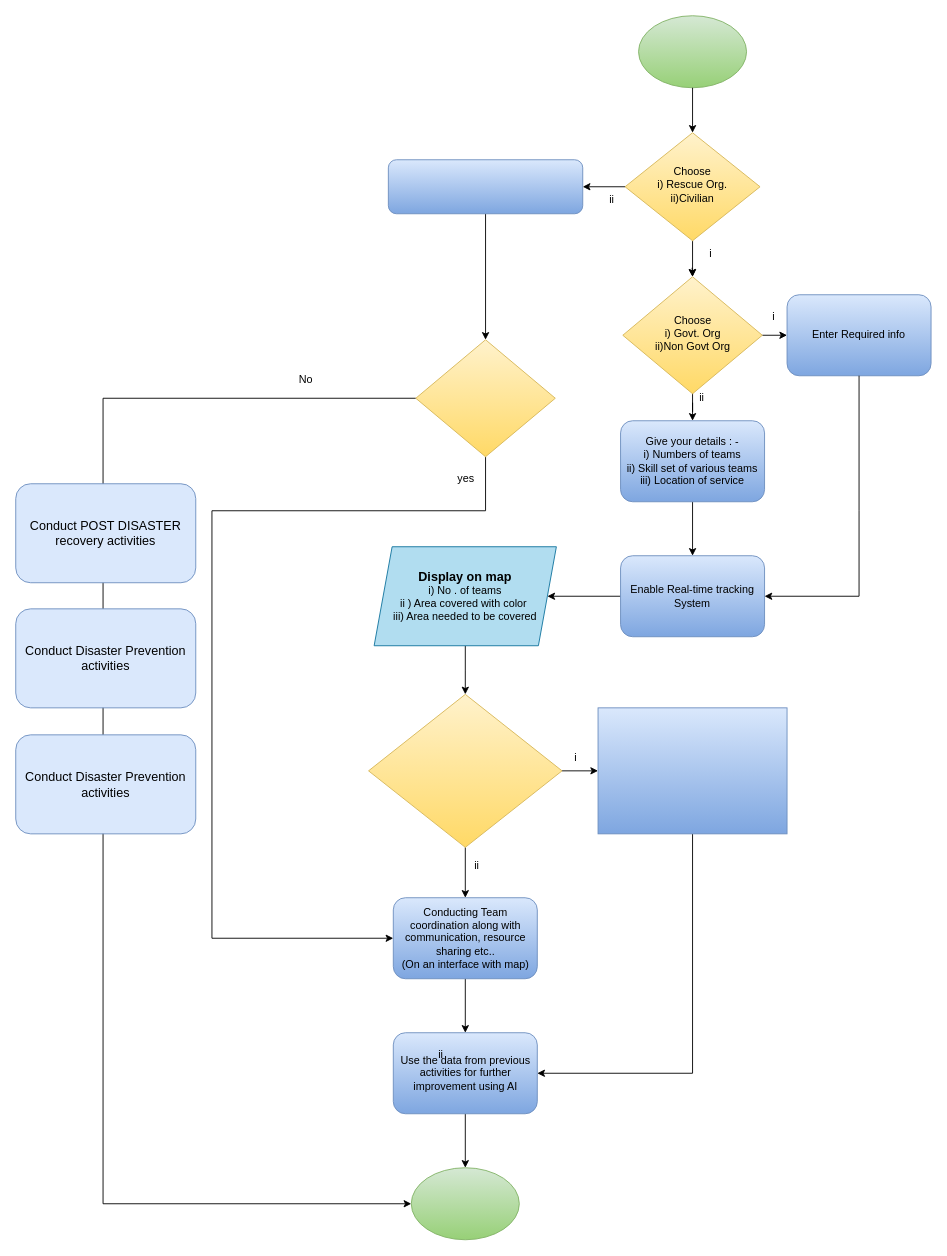
Image size: 947x1256. Some labels were removed from this diagram. Each missing label, with the centre of its shape:
"Conduct i) Drills for emergencies in school office etc. ii) Emergency Situation" goes at (465,770).
"Enter basic details with location access" goes at (485,186).
"If (Disaster Occurs)" goes at (485,398).
"Provide rudimentary instructions to various entities to conduct emergency drills" goes at (692,770).
"START" goes at (692,51).
"STOP" goes at (464,1203).
